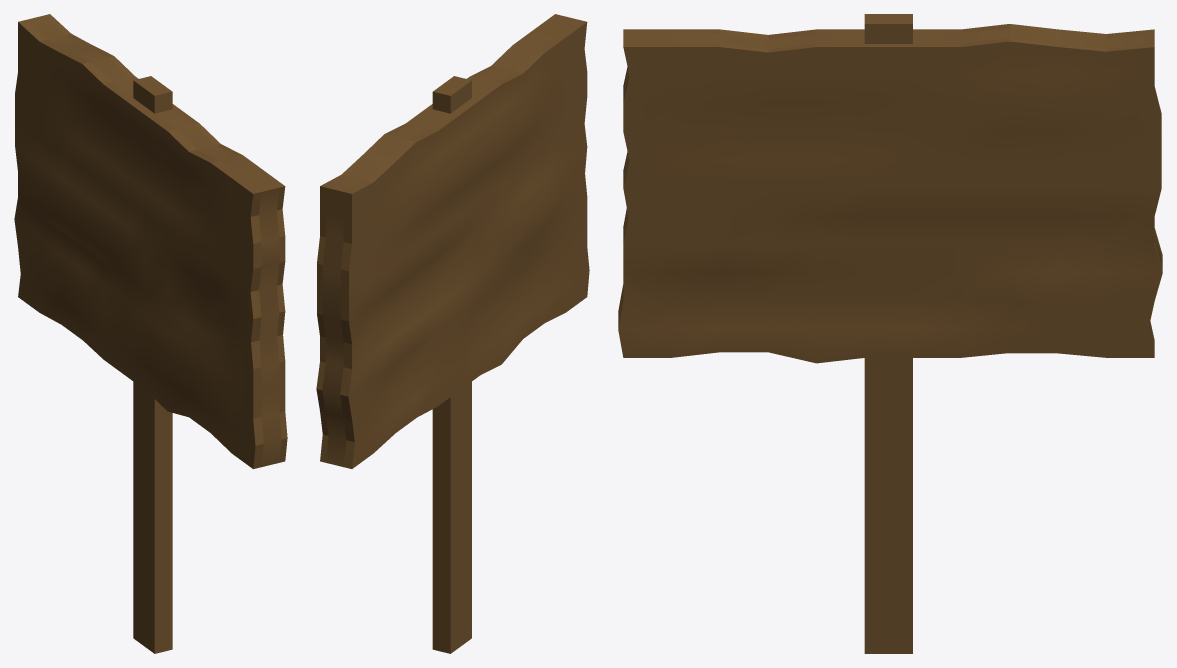
File: Sign.fbx
3 views of the same model, side by side, from view 1: azimuth 30°, elevation 25°; view 2: azimuth 150°, elevation 25°; view 3: azimuth 270°, elevation 25° (orthographic). The views are drawn at different scales.
Parts seen in each view (by area): view 1: pCube1; view 2: pCube1; view 3: pCube1.
Boxes of the visible parts, x1=… form: pCube1: x1=14, y1=14, x2=287, y2=653; pCube1: x1=316, y1=14, x2=589, y2=653; pCube1: x1=618, y1=14, x2=1162, y2=653.
Size of the model in its own units: 0.0164 by 0.2052 by 0.1607.
